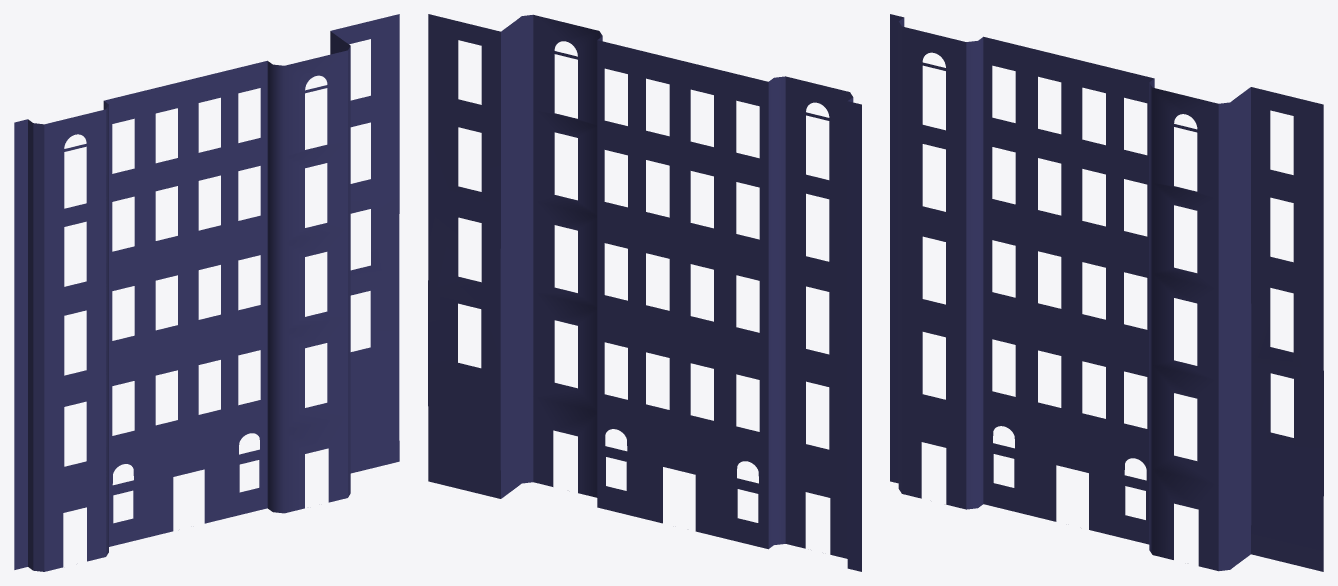
The model's file is Left Building Face.FBX.
The picture shows the model from 3 angles, left to right: view 1: azimuth 30°, elevation 25°; view 2: azimuth 150°, elevation 25°; view 3: azimuth 330°, elevation 25°; orthographic projection. The views are drawn at different scales.
Visible parts, largest first — view 1: Object093; view 2: Object093; view 3: Object093.
Part boxes in pixels (<box>): Object093: <box>14,14,399,571</box>; Object093: <box>428,14,861,571</box>; Object093: <box>890,14,1323,571</box>.
Size of the model in its own units: 53.99 by 57.72 by 5.77.
